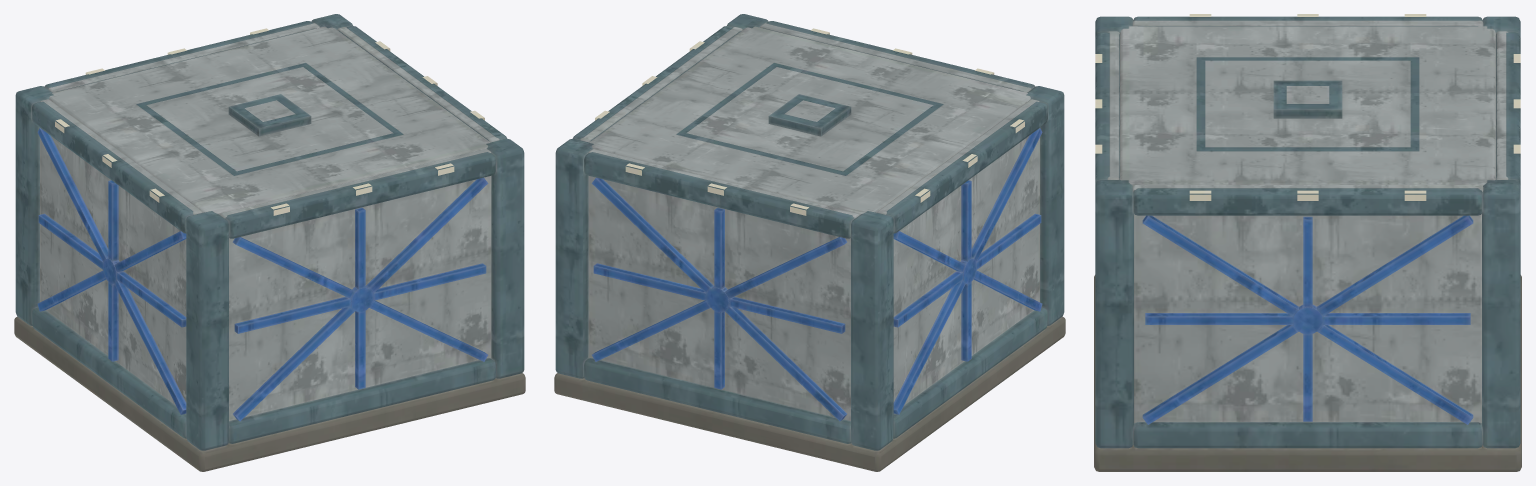
Rendered from hull_pressurized_closed.glb.
3 views of the same model, side by side, from view 1: azimuth 30°, elevation 25°; view 2: azimuth 150°, elevation 25°; view 3: azimuth 270°, elevation 25° (orthographic). The views are drawn at different scales.
Parts seen in each view (by area): view 1: te_hull_pressurized_closed; view 2: te_hull_pressurized_closed; view 3: te_hull_pressurized_closed.
Boxes of the visible parts, left/top/right/bottom form: te_hull_pressurized_closed: left=14, top=14, right=525, bottom=471; te_hull_pressurized_closed: left=554, top=14, right=1065, bottom=471; te_hull_pressurized_closed: left=1094, top=14, right=1521, bottom=471.
Size of the model in its own units: 1 by 0.7446 by 1.
Materials: 1 (1 with a texture image).
